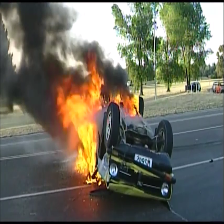fire_h: (56, 51, 105, 175), (122, 90, 141, 117)
fire_l: (85, 172, 101, 186), (107, 92, 121, 105)
